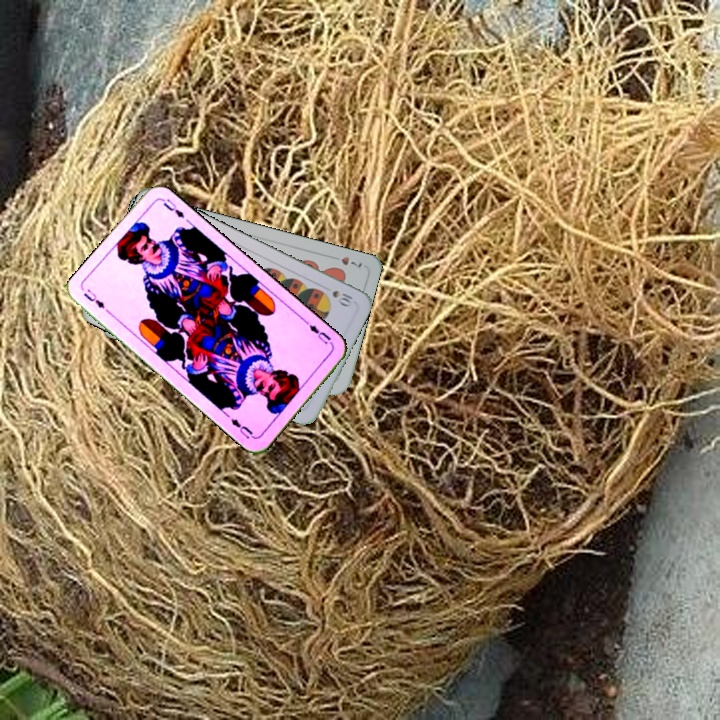EU: (301, 317, 334, 347), (79, 285, 107, 311)
H7: (326, 251, 365, 270)
S10: (328, 286, 356, 308)
